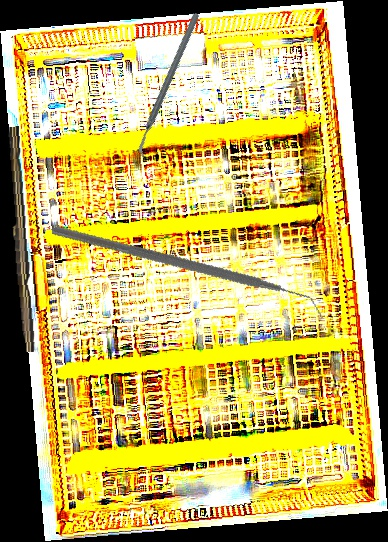Chopper: (50, 160, 324, 387), (92, 10, 246, 163)
Scalpel Handle: (1, 126, 39, 353)
